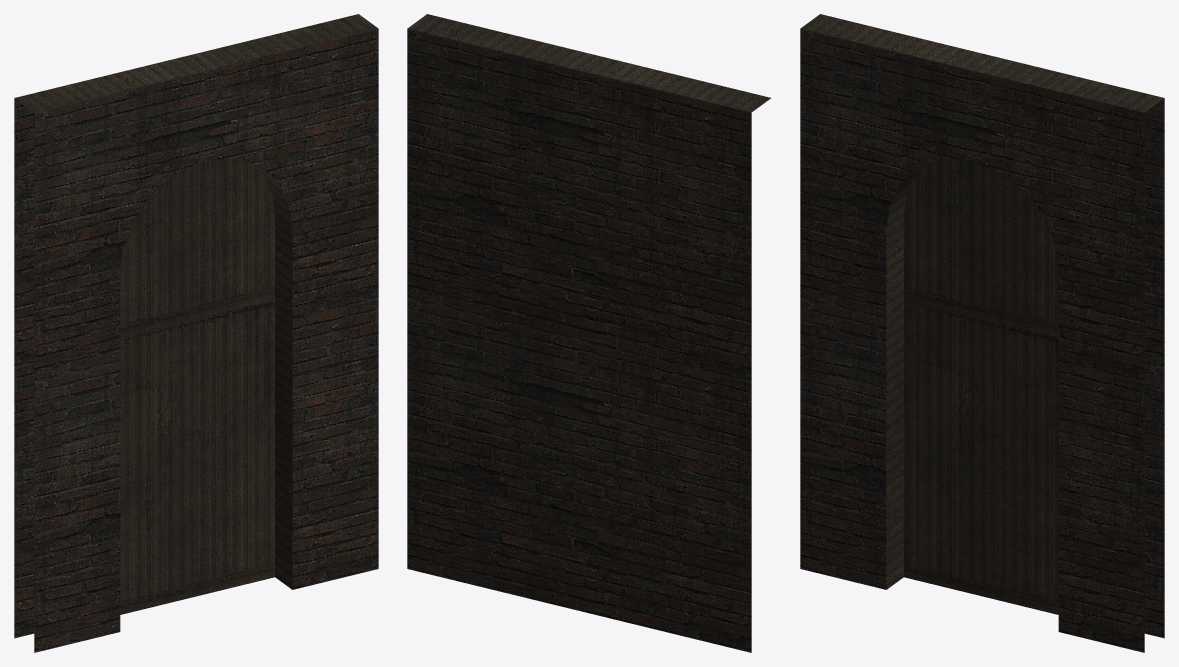
Rendered from wall_hs_15_double.glb.
The picture shows the model from 3 angles, left to right: view 1: azimuth 30°, elevation 25°; view 2: azimuth 150°, elevation 25°; view 3: azimuth 330°, elevation 25°; orthographic projection.
Visible parts, largest first — view 1: wall_hs_15_double; view 2: wall_hs_15_double; view 3: wall_hs_15_double.
Boxes of the visible parts, x1,y1,x2,y2 form: wall_hs_15_double: (14,14,378,652); wall_hs_15_double: (407,14,770,652); wall_hs_15_double: (800,14,1164,652).
Bounding box in the file's own units: 4 × 6 × 0.4.
Materials: 2 (2 with a texture image).
